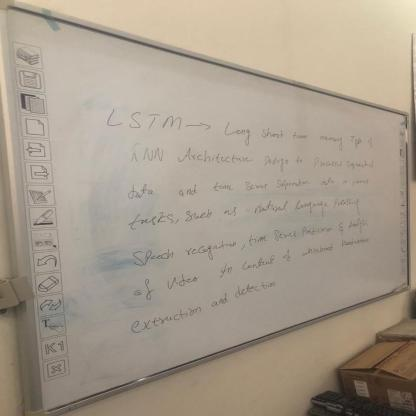Handwritten text: (124, 218, 380, 306), (123, 198, 384, 275), (116, 176, 375, 242), (99, 102, 375, 163), (118, 266, 300, 341), (118, 139, 386, 188), (115, 157, 381, 206)
